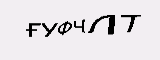Ғ: (25, 21, 42, 38)
